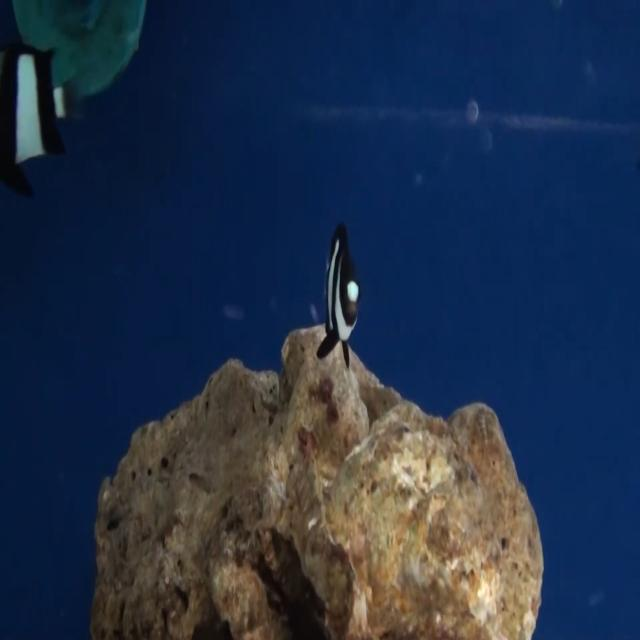ThreeStripedDamselfish: (317, 220, 358, 372)
